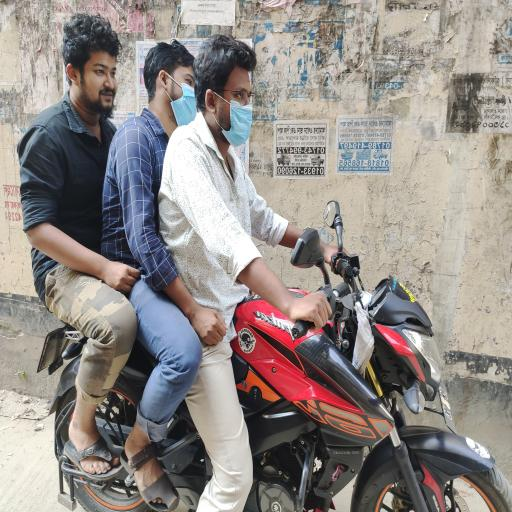helmet: (158, 70, 198, 128)
overloading: (35, 202, 509, 510)
